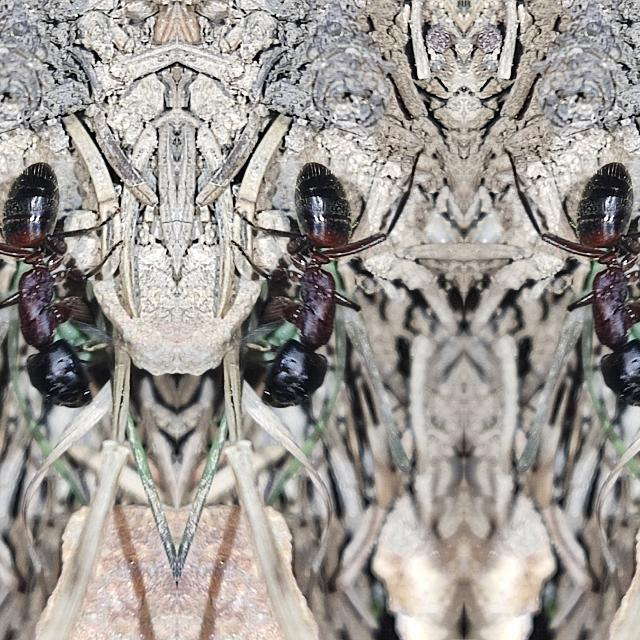Camponotus: (231, 128, 369, 468), (0, 126, 120, 467), (558, 126, 640, 468)
